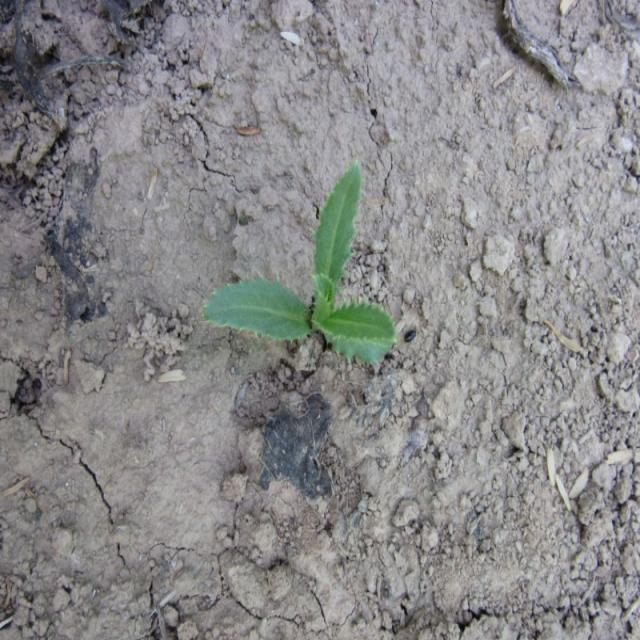cs: (200, 158, 399, 372)
